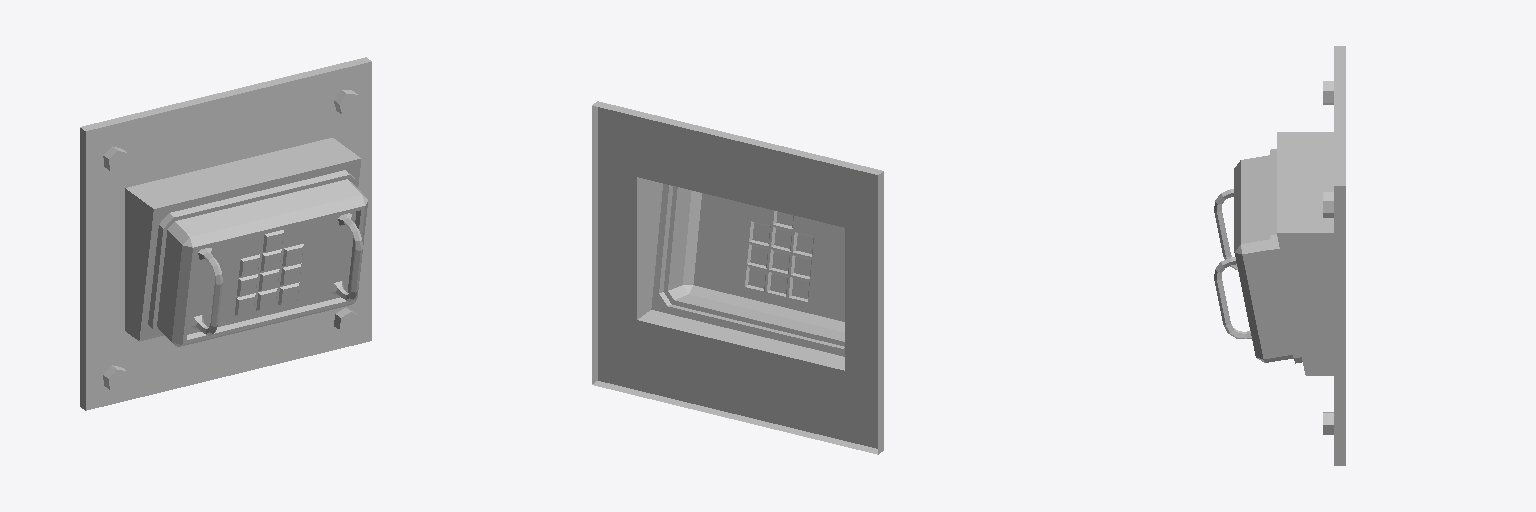
Rendered from codelock.obj.
3 views of the same model, side by side, from view 1: azimuth 30°, elevation 25°; view 2: azimuth 150°, elevation 25°; view 3: azimuth 270°, elevation 25° (orthographic).
Visible parts, largest first — view 1: BlockCodelock; view 2: BlockCodelock; view 3: BlockCodelock.
Boxes of the visible parts, box(x1,y1,x2,y2) form: BlockCodelock: box(80, 57, 371, 410); BlockCodelock: box(592, 101, 883, 454); BlockCodelock: box(1214, 46, 1345, 465).
Size of the model in its own units: 0.8083 by 0.7536 by 0.3223.